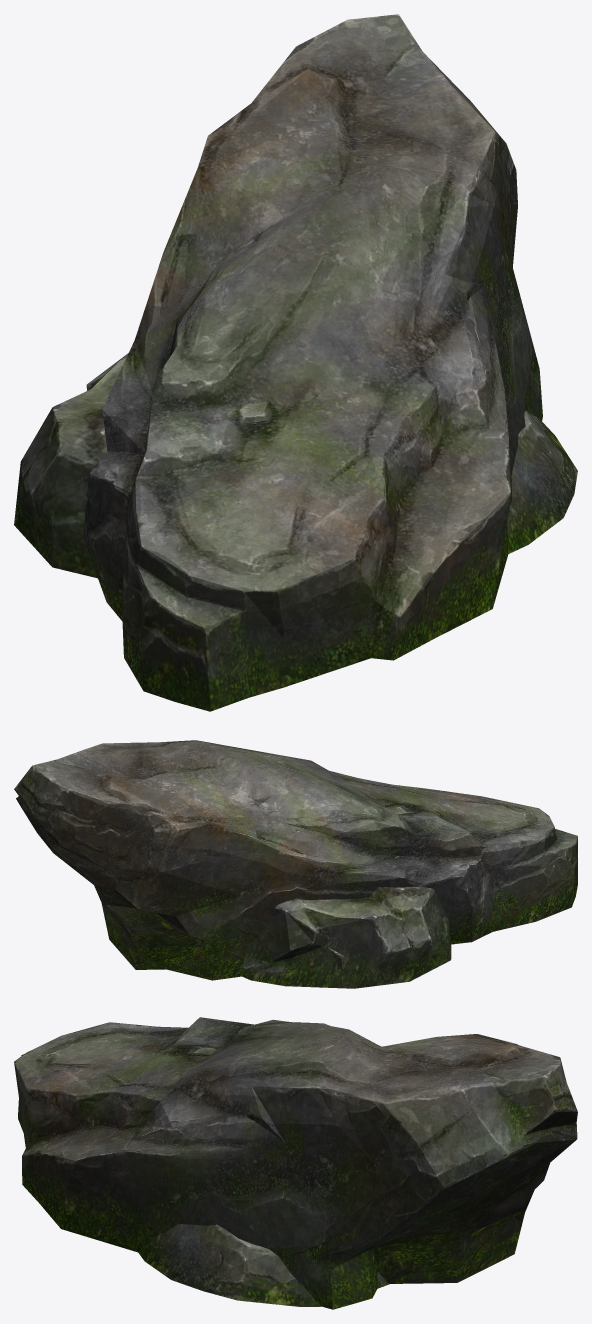
The model's file is Stone03.FBX.
3 views of the same model, one above another, from view 1: azimuth 30°, elevation 25°; view 2: azimuth 150°, elevation 25°; view 3: azimuth 270°, elevation 25° (orthographic). The views are drawn at different scales.
Parts seen in each view (by area): view 1: Stone03_01, Stone03_02; view 2: Stone03_01, Stone03_02; view 3: Stone03_01, Stone03_02.
Boxes of the visible parts, x1,y1,x2,y2 form: Stone03_01: (83,14,542,711); Stone03_02: (14,353,577,578); Stone03_01: (14,740,577,980); Stone03_02: (241,886,451,988); Stone03_01: (14,1017,577,1309); Stone03_02: (138,1224,389,1306).
Size of the model in its own units: 9.35 by 4.55 by 9.69.
